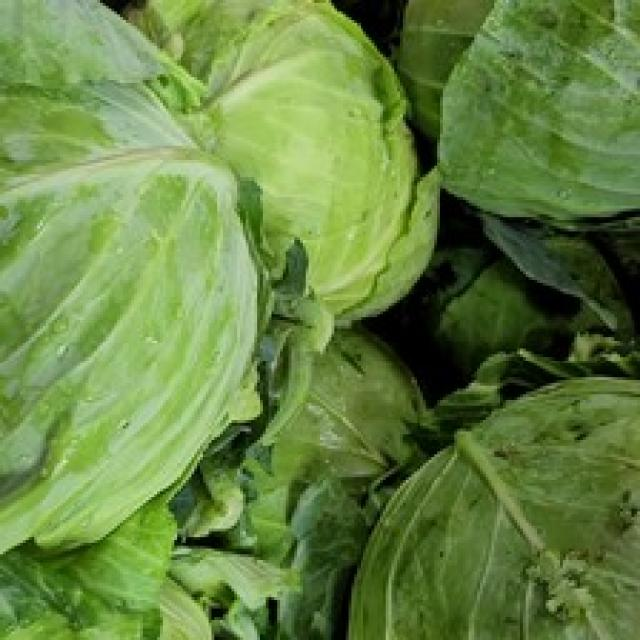Cabbage: (0, 0, 333, 569), (168, 0, 443, 324)
